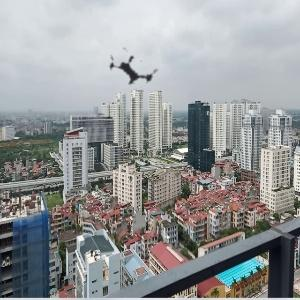drone: (90, 30, 171, 111)
